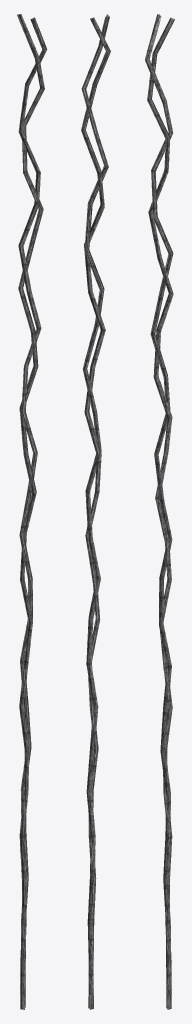
File: INST_MIRK_VINE_CLIMBABLE.fbx
3 renders of one model, left to right at view 1: azimuth 90°, elevation 25°; view 2: azimuth 150°, elevation 25°; view 3: azimuth 270°, elevation 25°, orthographic.
Parts seen in each view (by area): view 1: INST_MIRK_VINE_CLIMBABLE; view 2: INST_MIRK_VINE_CLIMBABLE; view 3: INST_MIRK_VINE_CLIMBABLE.
Part boxes in pixels (x1,y1,x2,y2): INST_MIRK_VINE_CLIMBABLE: [17, 14, 47, 1009]; INST_MIRK_VINE_CLIMBABLE: [81, 14, 110, 1009]; INST_MIRK_VINE_CLIMBABLE: [145, 14, 174, 1009].
Size of the model in its own units: 3878 by 140857 by 3917.
Materials: 1 (1 with a texture image).
